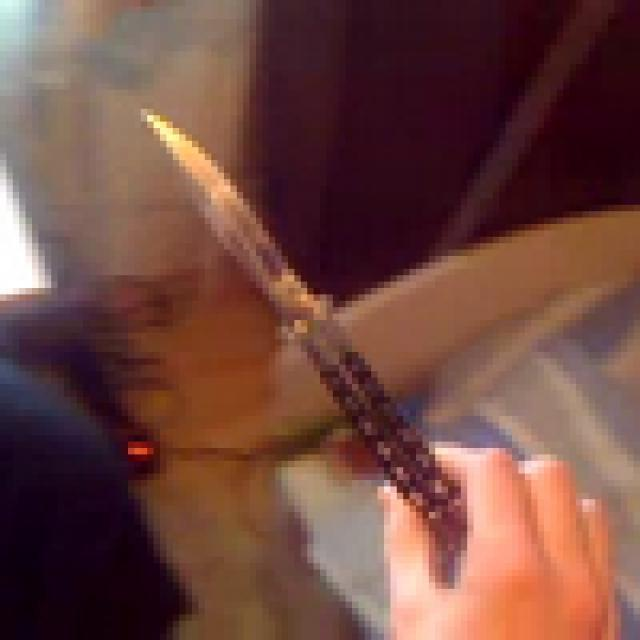knife: (102, 64, 493, 595)
